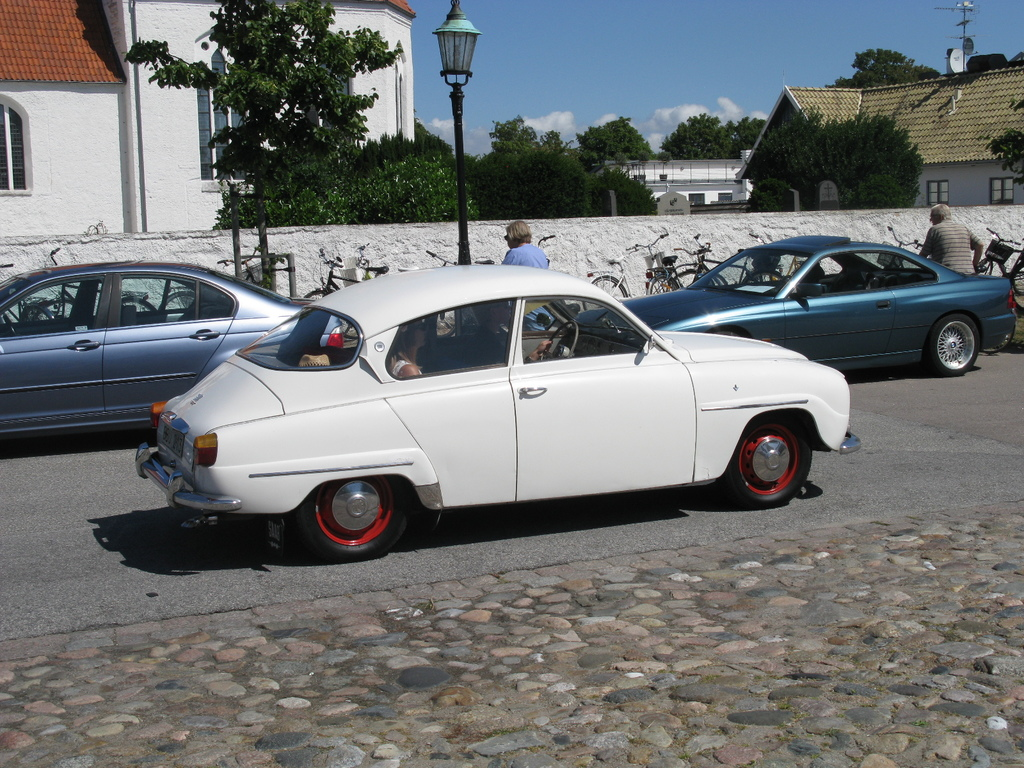Car: (137, 261, 856, 563), (570, 234, 1020, 376), (0, 259, 311, 438)
